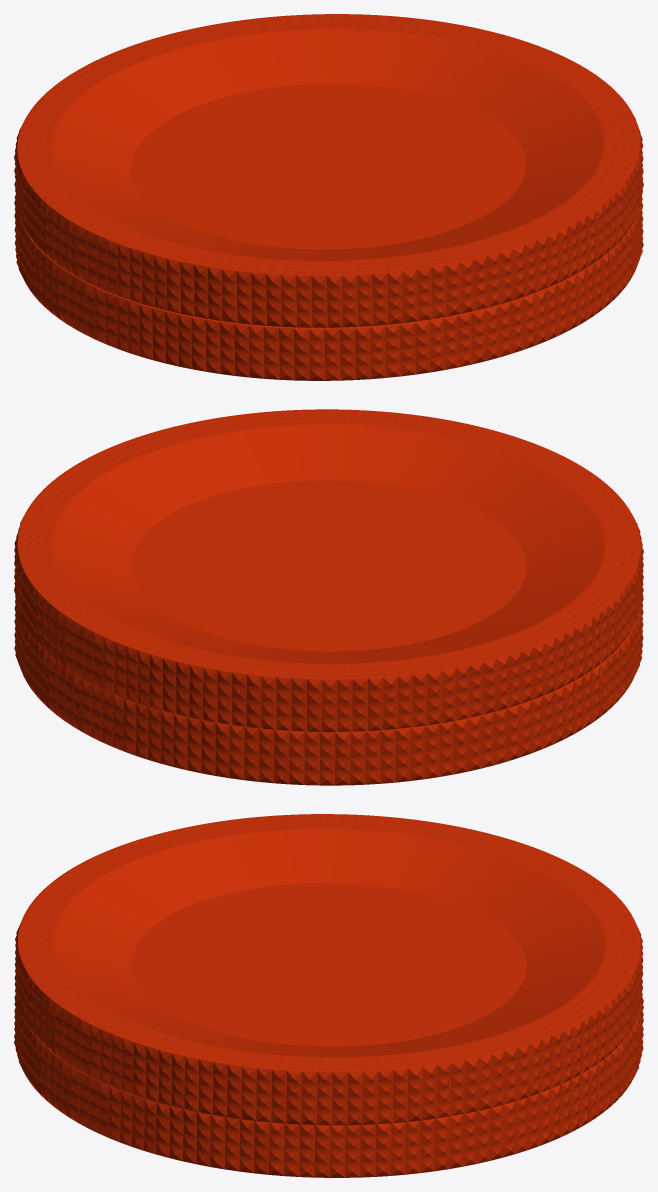
Rendered from crowned_checker.glb.
3 renders of one model, top to bottom at view 1: azimuth 30°, elevation 25°; view 2: azimuth 150°, elevation 25°; view 3: azimuth 270°, elevation 25°, orthographic.
Parts seen in each view (by area): view 1: checker; view 2: checker; view 3: checker.
Boxes of the visible parts, left/top/right/bottom form: checker: left=14, top=14, right=643, bottom=380; checker: left=14, top=409, right=643, bottom=785; checker: left=14, top=814, right=643, bottom=1177.
Bounding box in the file's own units: 1.51 × 0.3017 × 1.51.
